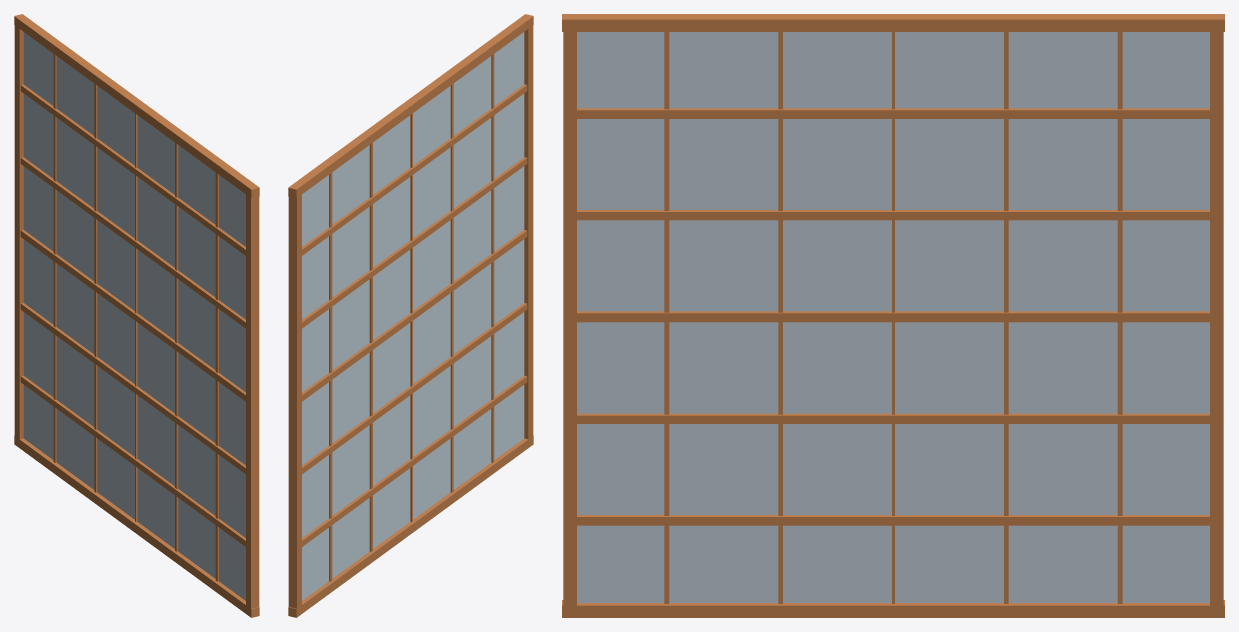
The model's file is paper_screen.glb.
3 views of the same model, side by side, from view 1: azimuth 30°, elevation 25°; view 2: azimuth 150°, elevation 25°; view 3: azimuth 270°, elevation 25° (orthographic). The views are drawn at different scales.
Parts seen in each view (by area): view 1: paper_screen, paper_screen.001; view 2: paper_screen, paper_screen.001; view 3: paper_screen, paper_screen.001.
Boxes of the visible parts, x1,y1,x2,y2 form: paper_screen: [23, 32, 245, 600]; paper_screen.001: [14, 14, 259, 617]; paper_screen: [302, 32, 524, 600]; paper_screen.001: [288, 14, 533, 617]; paper_screen: [577, 32, 1209, 602]; paper_screen.001: [562, 14, 1224, 617].
Size of the model in its own units: 0.0735 by 3.59 by 3.61.
